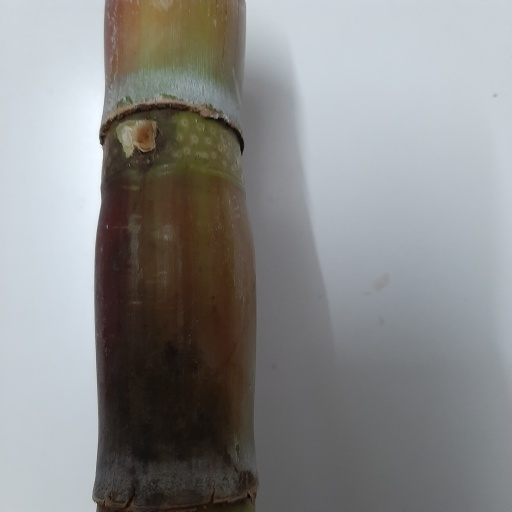Damage_Bud: (131, 118, 158, 152)
